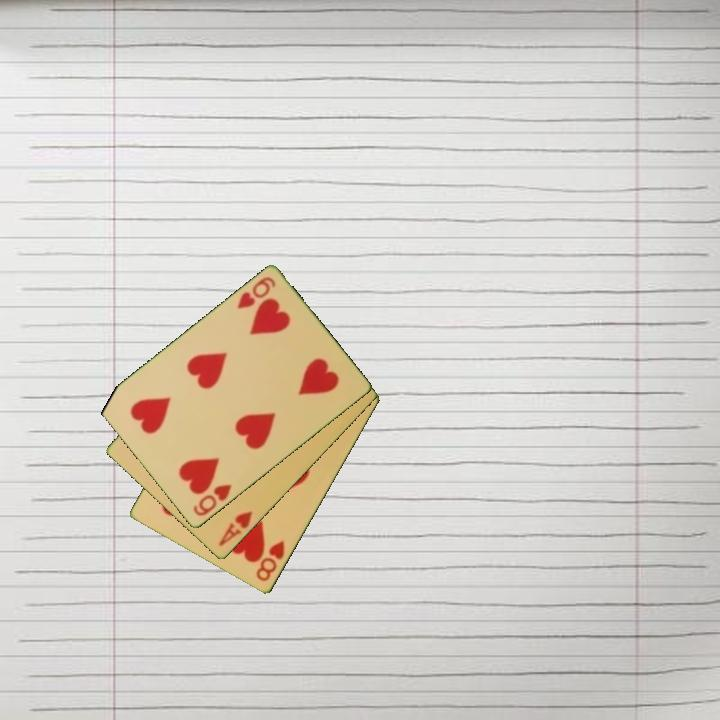6h: (189, 481, 235, 520), (233, 274, 279, 312)
8h: (253, 537, 288, 585)
Ah: (215, 508, 255, 550)
